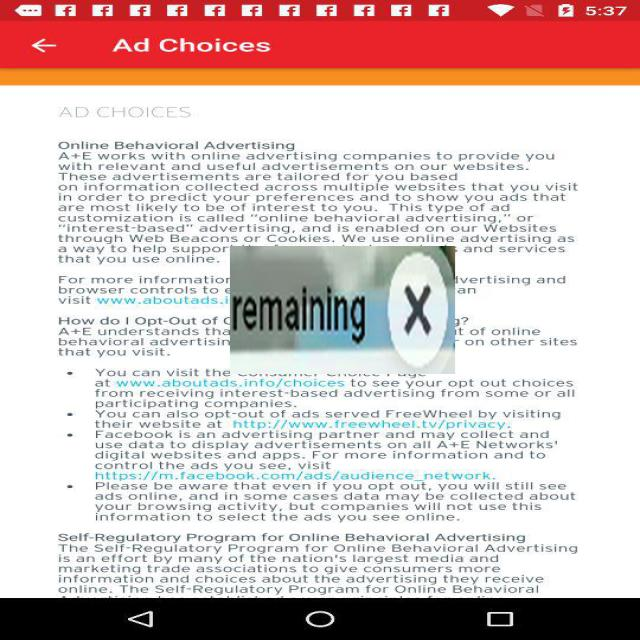misdirection: (230, 246, 455, 374)
